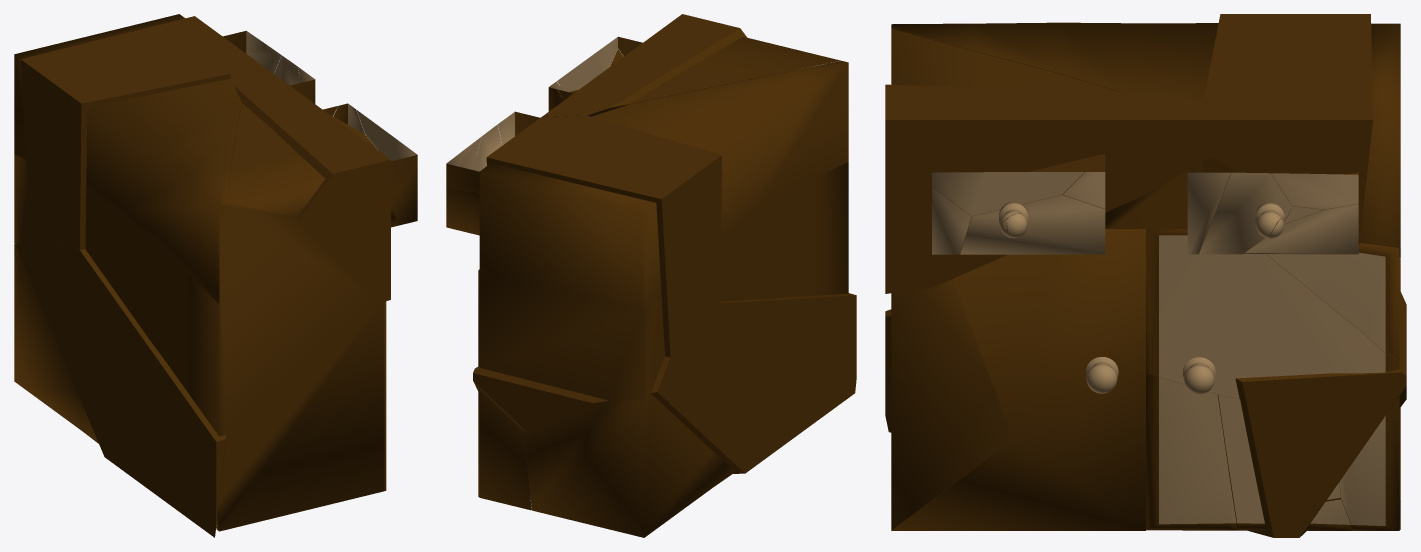
Rendered from Broken_Bedside_02.fbx.
The picture shows the model from 3 angles, left to right: view 1: azimuth 30°, elevation 25°; view 2: azimuth 150°, elevation 25°; view 3: azimuth 270°, elevation 25°; orthographic projection. The views are drawn at different scales.
Visible parts, largest first — view 1: Cube_cell.008, Cube_cell, Cube_cell.002, Cube_cell.006, Cube_cell.007, Cube_cell.009, Cube_cell.003, Cube_cell.004, Cube.004_cell.004, Cube.005_cell.004, Cube.004_cell.002, Cube.001_cell.002 (+3 smaller); view 2: Cube_cell.004, Cube_cell.008, Cube_cell, Cube_cell.006, Cube_cell.003, Cube_cell.007, Cube_cell.009, Cube_cell.005, Cube.004_cell.004, Cube.005_cell.002, Cube.005_cell.004, Cube.005_cell (+1 smaller); view 3: Cube_cell.007, Cube.001_cell.001, Cube_cell.006, Cube.002_cell.004, Cube.001_cell, Cube.001_cell.002, Cube_cell, Cube_cell.008, Cube.002_cell, Cube.002_cell.001, Cube_cell.004, Cube.004_cell.001 (+14 smaller).
Part boxes in pixels (<box>): Cube_cell.008: <box>85,78,379,436</box>; Cube_cell: <box>16,231,227,537</box>; Cube_cell.002: <box>216,301,384,531</box>; Cube_cell.006: <box>20,16,249,249</box>; Cube_cell.007: <box>230,57,390,302</box>; Cube_cell.009: <box>226,103,324,217</box>; Cube_cell.003: <box>14,244,98,443</box>; Cube_cell.004: <box>14,14,184,244</box>; Cube.004_cell.004: <box>323,106,417,202</box>; Cube.005_cell.004: <box>223,30,281,73</box>; Cube.004_cell.002: <box>391,167,417,225</box>; Cube.001_cell.002: <box>341,301,386,490</box>; Cube_cell.004: <box>479,163,664,400</box>; Cube_cell.008: <box>592,61,848,301</box>; Cube_cell: <box>473,293,856,473</box>; Cube_cell.006: <box>486,115,721,357</box>; Cube_cell.003: <box>524,393,735,537</box>; Cube_cell.007: <box>542,14,758,116</box>; Cube_cell.009: <box>631,36,840,103</box>; Cube_cell.005: <box>479,390,531,510</box>; Cube.004_cell.004: <box>557,36,642,99</box>; Cube.005_cell.002: <box>446,187,479,235</box>; Cube.005_cell.004: <box>446,137,481,192</box>; Cube.005_cell: <box>497,111,540,145</box>; Cube_cell.007: <box>885,84,1234,293</box>; Cube.001_cell.001: <box>952,224,1145,438</box>; Cube_cell.006: <box>1202,14,1372,244</box>; Cube.002_cell.004: <box>1145,229,1399,398</box>; Cube.001_cell: <box>891,371,1145,530</box>; Cube.001_cell.002: <box>891,279,1013,529</box>; Cube_cell: <box>885,289,1406,537</box>; Cube_cell.008: <box>891,22,1218,228</box>; Cube.002_cell: <box>1146,372,1237,530</box>; Cube.002_cell.001: <box>1267,243,1399,361</box>; Cube_cell.004: <box>1359,23,1400,258</box>; Cube.004_cell.001: <box>940,153,1105,254</box>.
Size of the model in its own units: 298 by 389 by 440.
